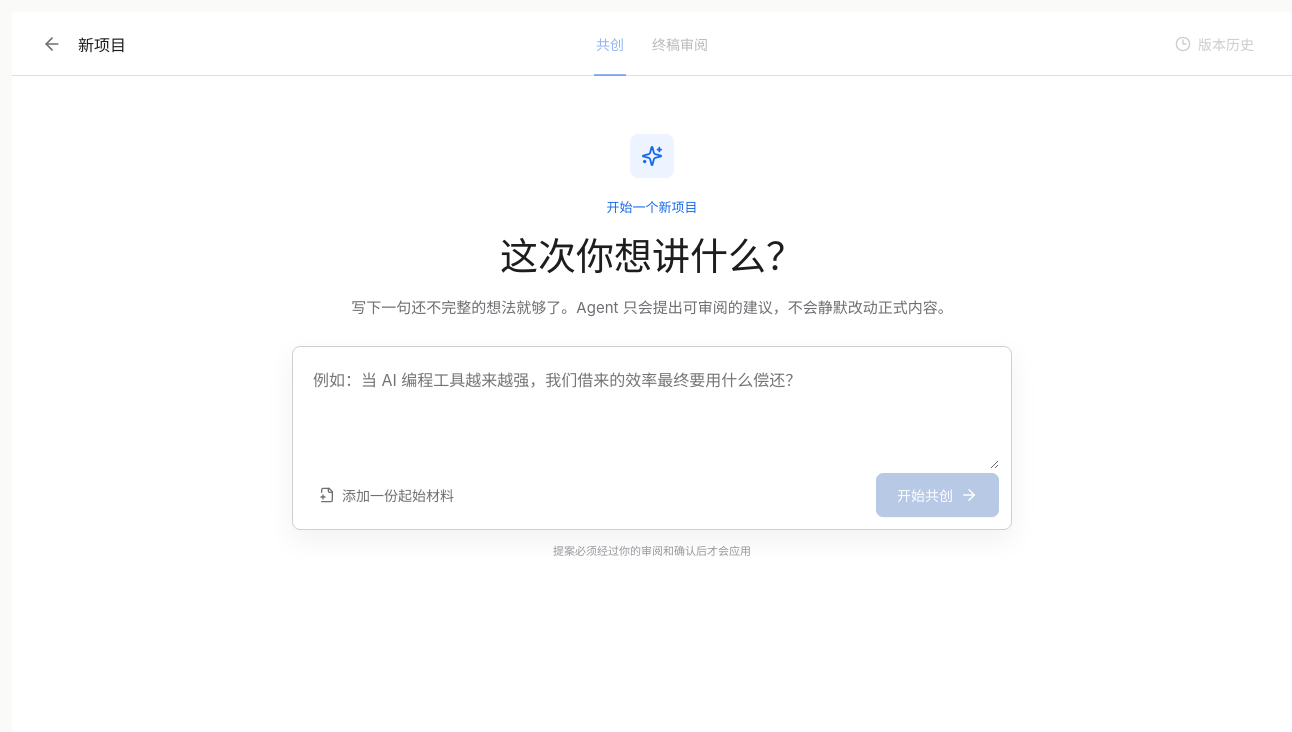
Test: Spark to Script runtime surface › keeps the persisted project but shows no run or proposal when a model gateway is not configured
Type "先保存意图，再配置模型" into the text box named "初步想法" at (652, 414), box [305,359,999,469]
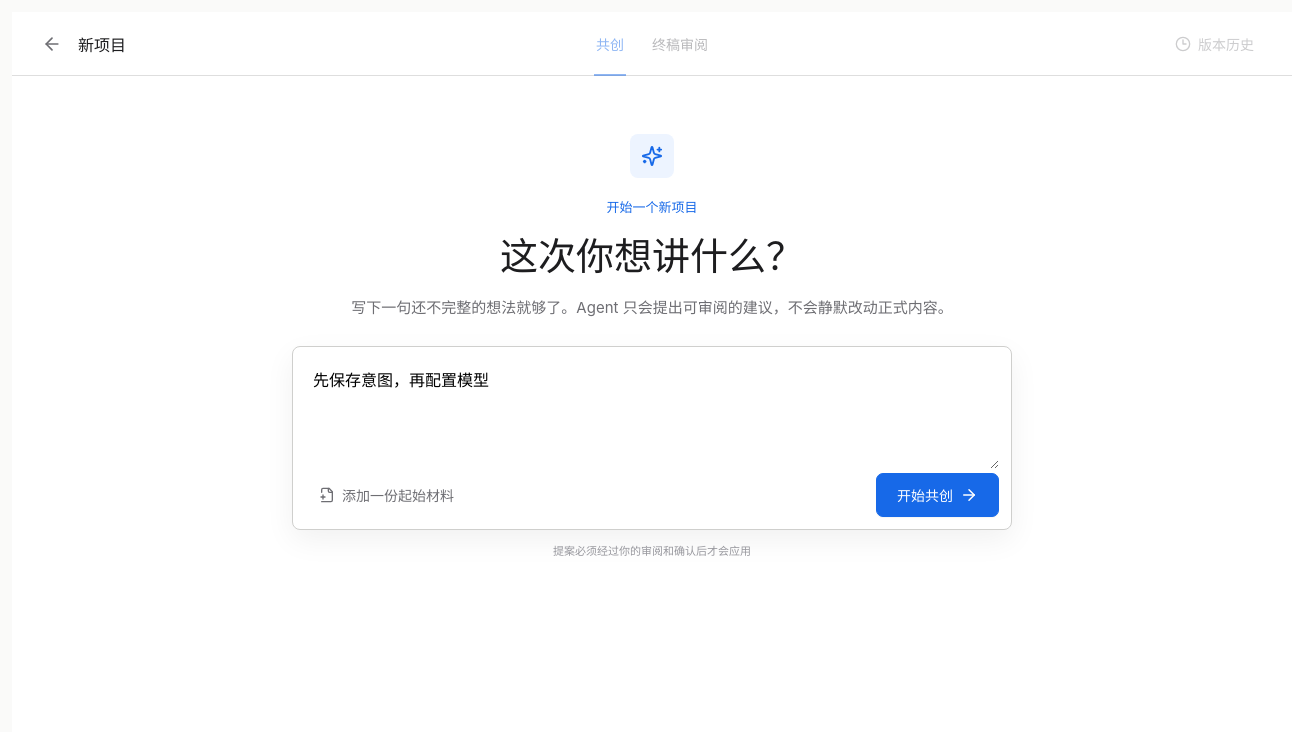
Click the button "开始共创" at (938, 495), box [876,473,999,517]
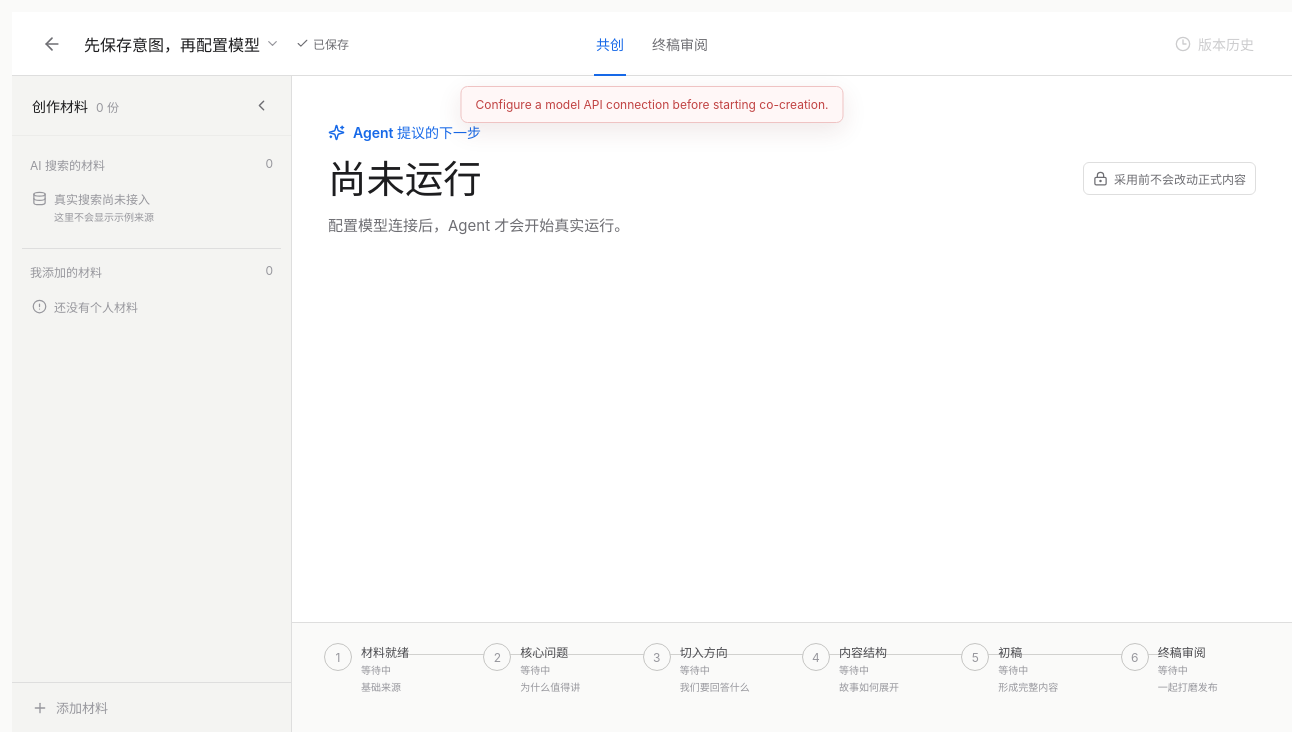
Expected: the message shows "Configure a model API connection", [476,97,828,112]
Expected: the heading "尚未运行" is shown, [328,156,482,202]
